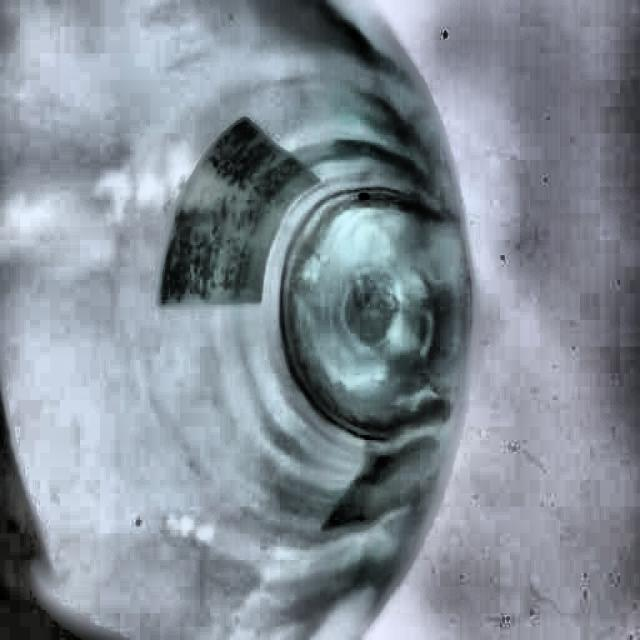glass: (0, 0, 476, 599)
